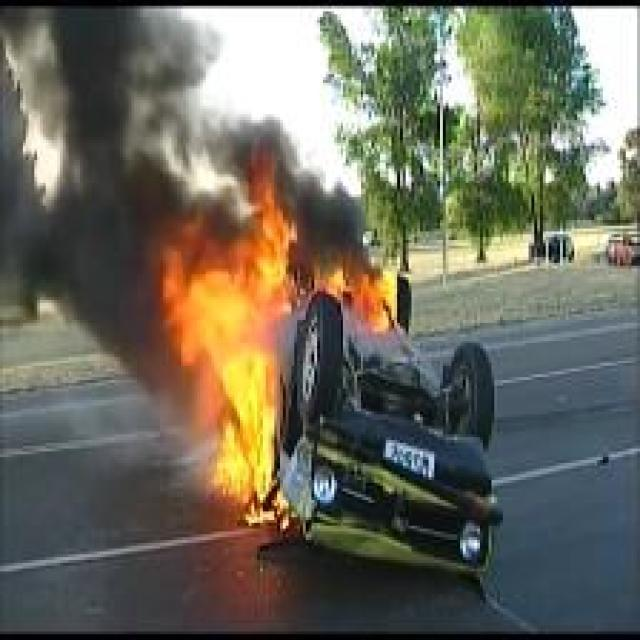Fire: (162, 142, 308, 528), (312, 268, 397, 334)
